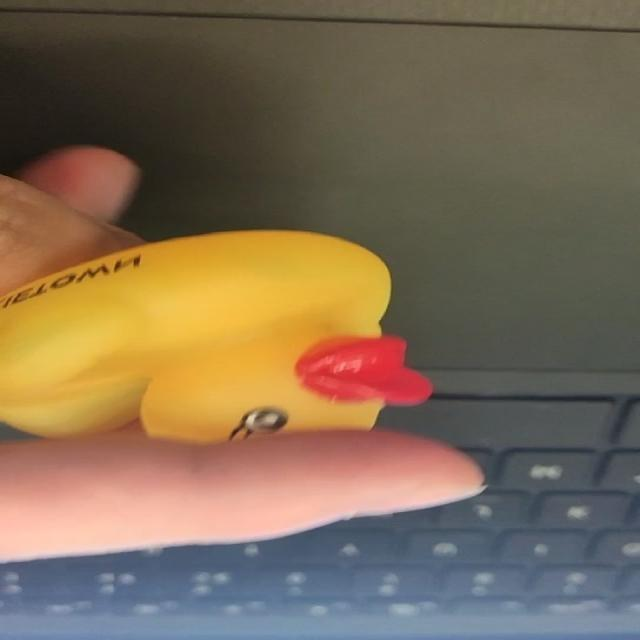rubber-duck: (0, 230, 429, 440)
